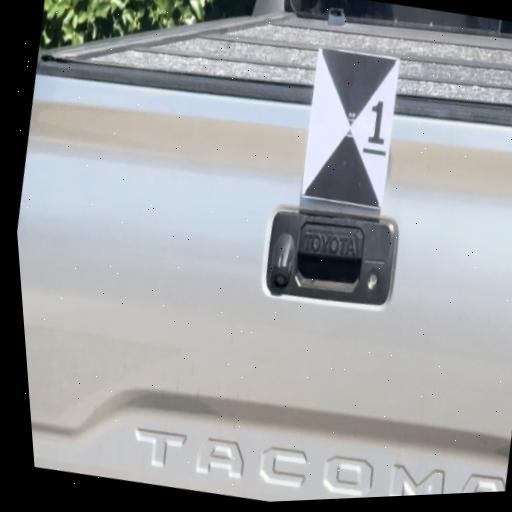target1: (291, 45, 409, 211)
